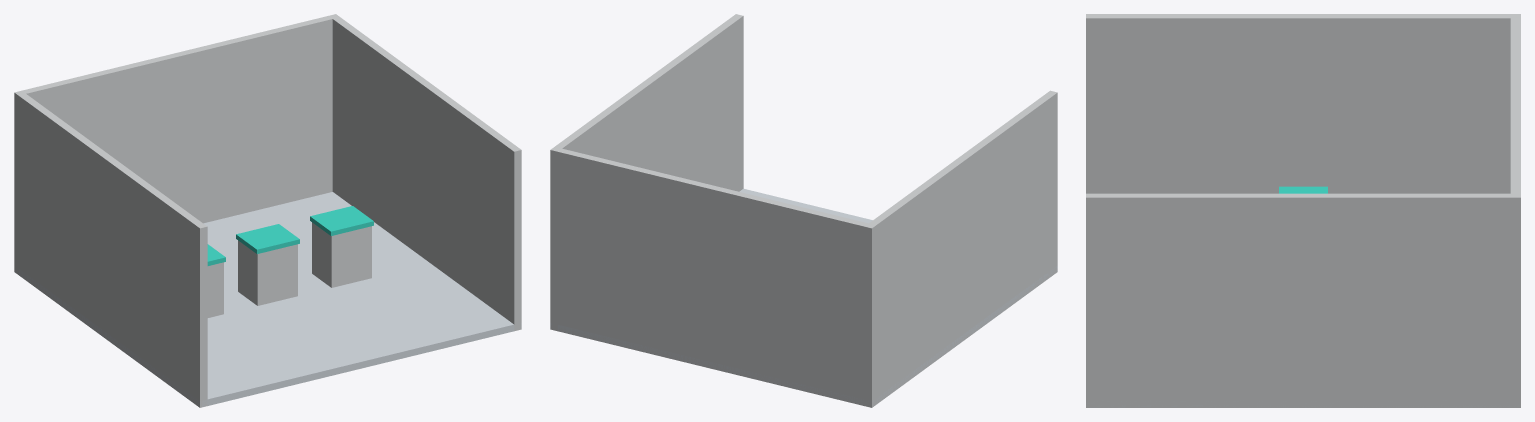
3 views of the same model, side by side, from view 1: azimuth 30°, elevation 25°; view 2: azimuth 150°, elevation 25°; view 3: azimuth 270°, elevation 25° (orthographic). The views are drawn at different scales.
Visible parts, largest first — view 1: Exhibition Booth Concept; view 2: Exhibition Booth Concept; view 3: Exhibition Booth Concept.
Boxes of the visible parts, <box> form: Exhibition Booth Concept: <box>14,14,521,407</box>; Exhibition Booth Concept: <box>550,14,1057,407</box>; Exhibition Booth Concept: <box>1086,14,1520,407</box>.
Bounding box in the file's own units: 6 × 3.2 × 6.
